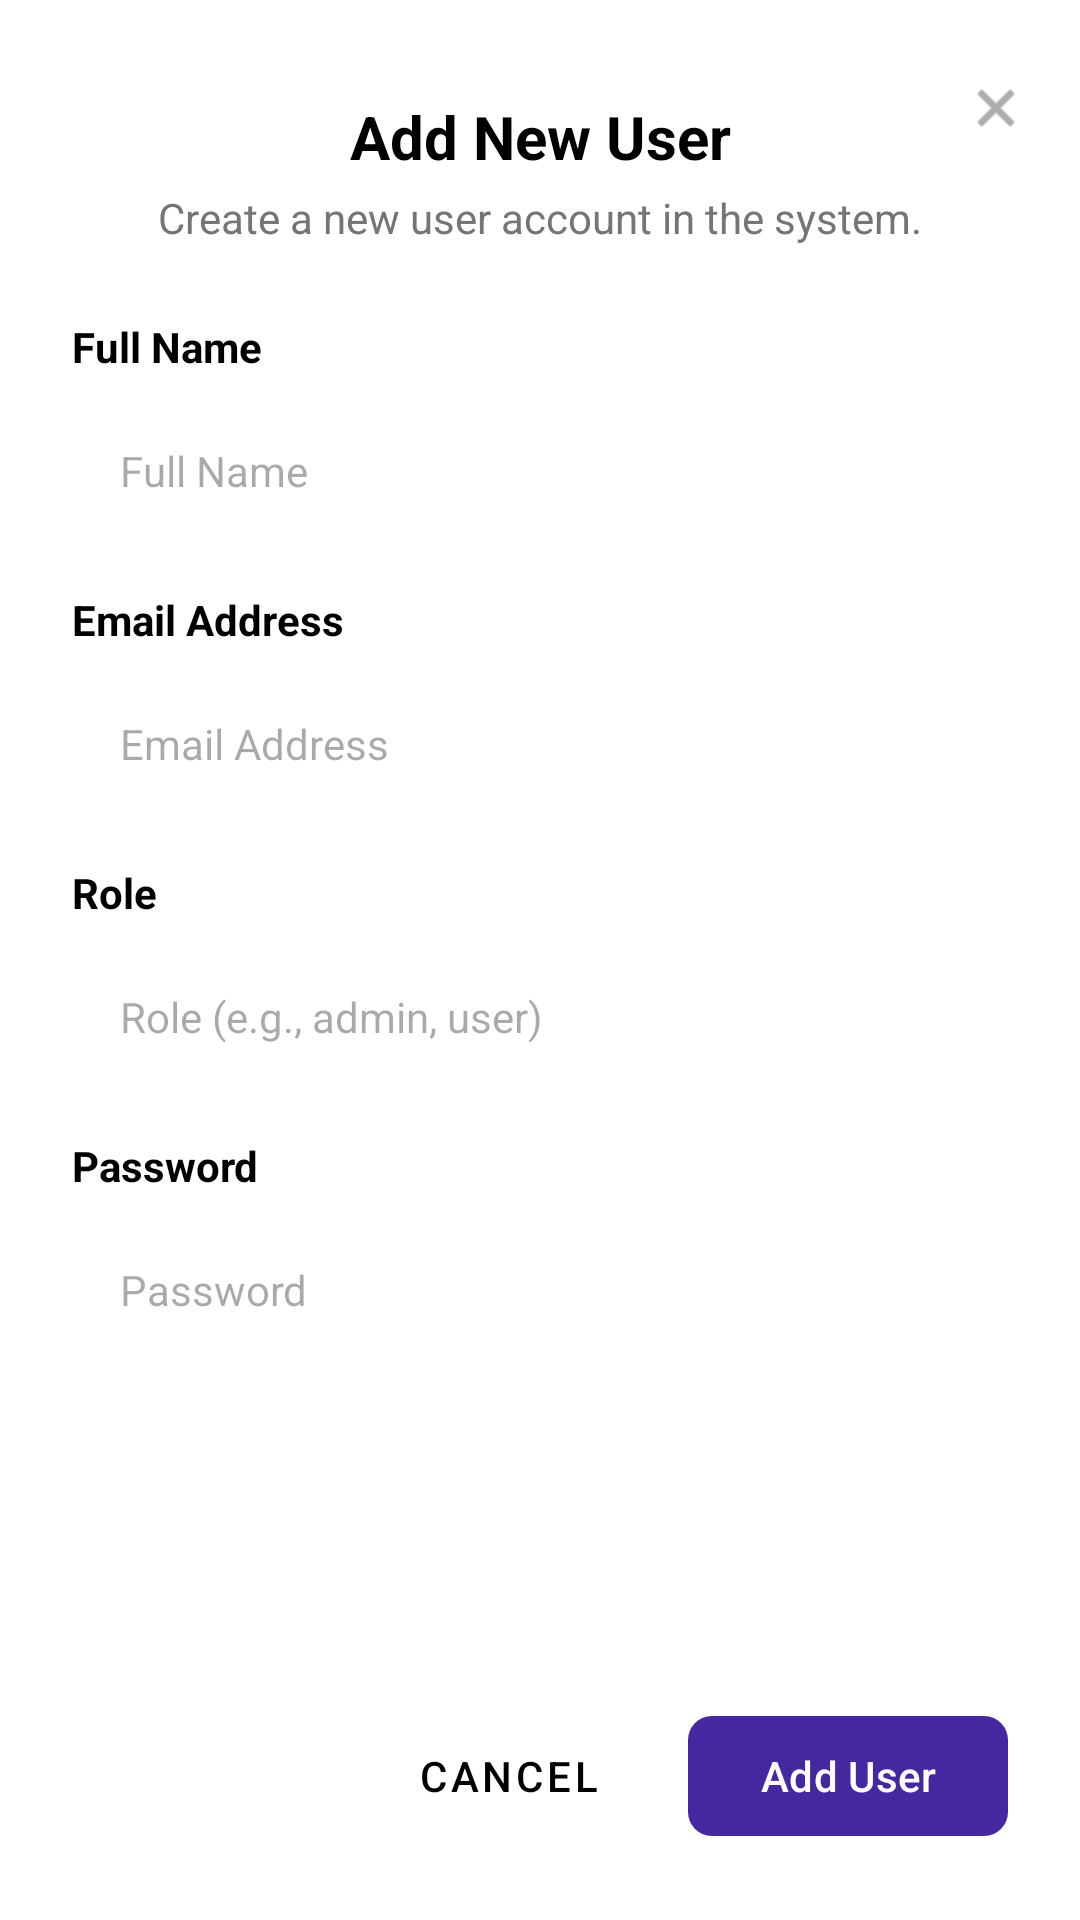

Point at icon controls on the screen. Image size 1080px x 1920px, points as (x,y).
close clear cancel: (996,108)
